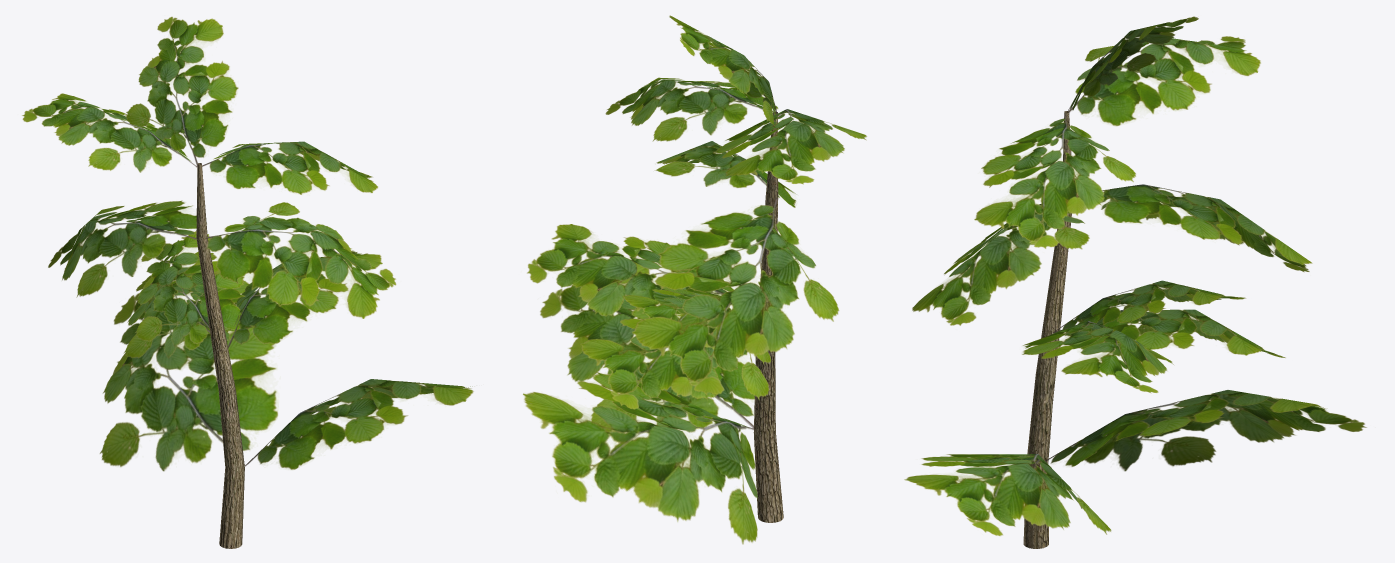
Rendered from grana_hrast.glb.
3 views of the same model, side by side, from view 1: azimuth 30°, elevation 25°; view 2: azimuth 150°, elevation 25°; view 3: azimuth 270°, elevation 25° (orthographic). The views are drawn at different scales.
Visible parts, largest first — view 1: Branch_Oak_Green_1_aiStandardSurface4_0, Branch_Oak_Green_1_aiStandardSurface2_0; view 2: Branch_Oak_Green_1_aiStandardSurface4_0, Branch_Oak_Green_1_aiStandardSurface2_0; view 3: Branch_Oak_Green_1_aiStandardSurface4_0, Branch_Oak_Green_1_aiStandardSurface2_0.
Part boxes in pixels (left/top/right/bottom): Branch_Oak_Green_1_aiStandardSurface4_0: left=22, top=16, right=473, bottom=471; Branch_Oak_Green_1_aiStandardSurface2_0: left=196, top=163, right=244, bottom=548; Branch_Oak_Green_1_aiStandardSurface4_0: left=523, top=15, right=866, bottom=544; Branch_Oak_Green_1_aiStandardSurface2_0: left=753, top=112, right=783, bottom=522; Branch_Oak_Green_1_aiStandardSurface4_0: left=904, top=16, right=1366, bottom=535; Branch_Oak_Green_1_aiStandardSurface2_0: left=1023, top=111, right=1071, bottom=548.
Size of the model in its own units: 236 by 301 by 243.
Materials: 2 (2 with a texture image).
